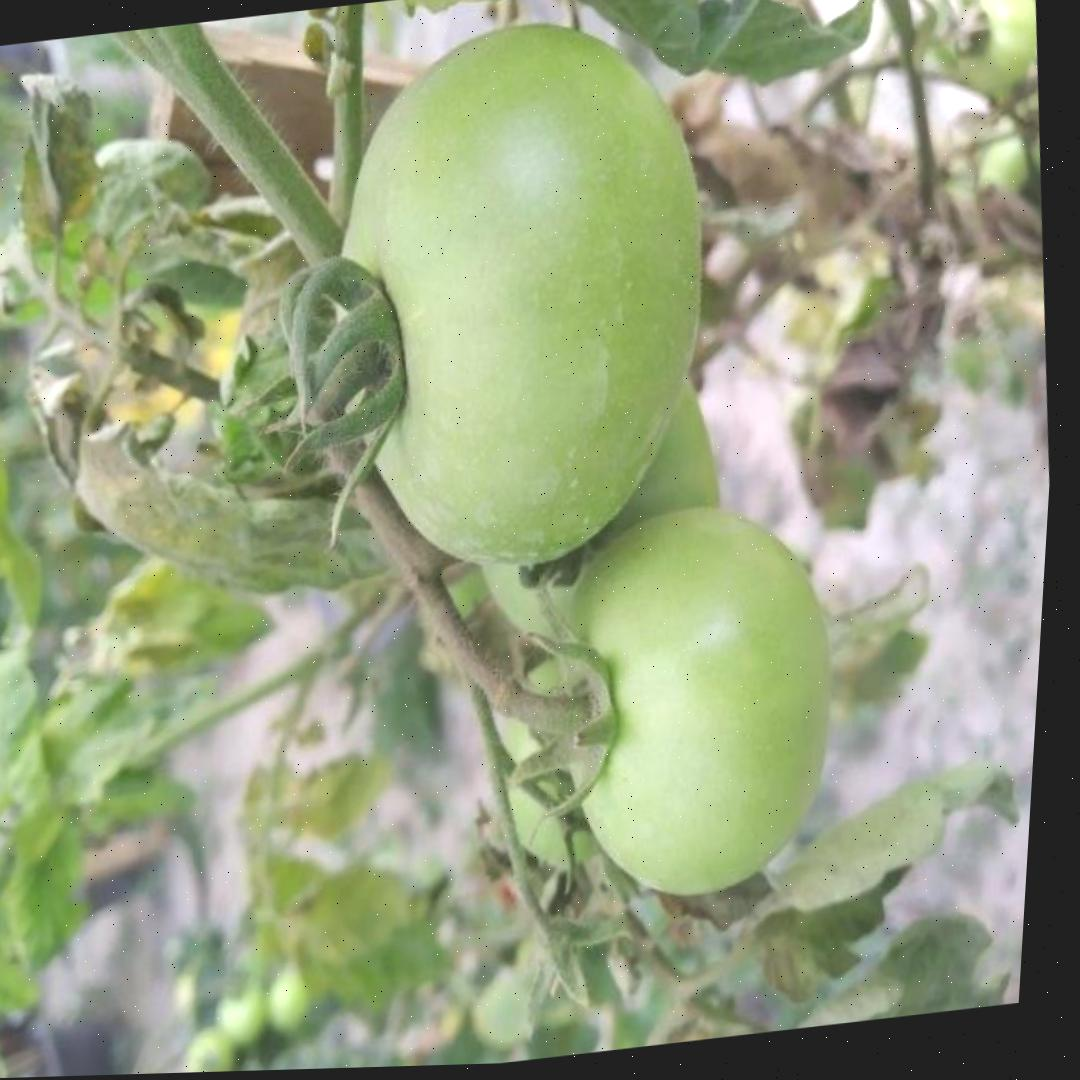mentah: (290, 0, 745, 588), (524, 485, 855, 914)
